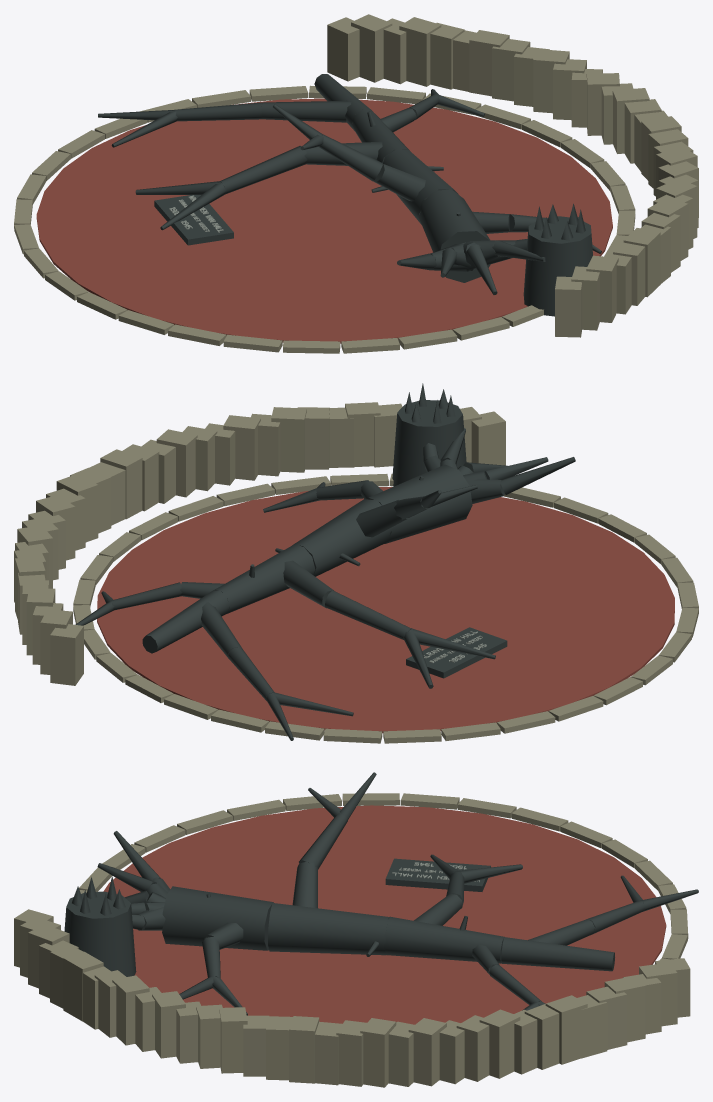
File: walraven-van-hall.glb
The picture shows the model from 3 angles, top to bottom: view 1: azimuth 30°, elevation 25°; view 2: azimuth 150°, elevation 25°; view 3: azimuth 270°, elevation 25°; orthographic projection.
Visible parts, largest first — view 1: walraven-van-hall; view 2: walraven-van-hall; view 3: walraven-van-hall.
Part boxes in pixels (x1=…): walraven-van-hall: x1=14, y1=14, x2=698, y2=353; walraven-van-hall: x1=14, y1=383, x2=698, y2=743; walraven-van-hall: x1=14, y1=772, x2=698, y2=1087.
Bounding box in the file's own units: 10.44 × 2.22 × 10.45.
